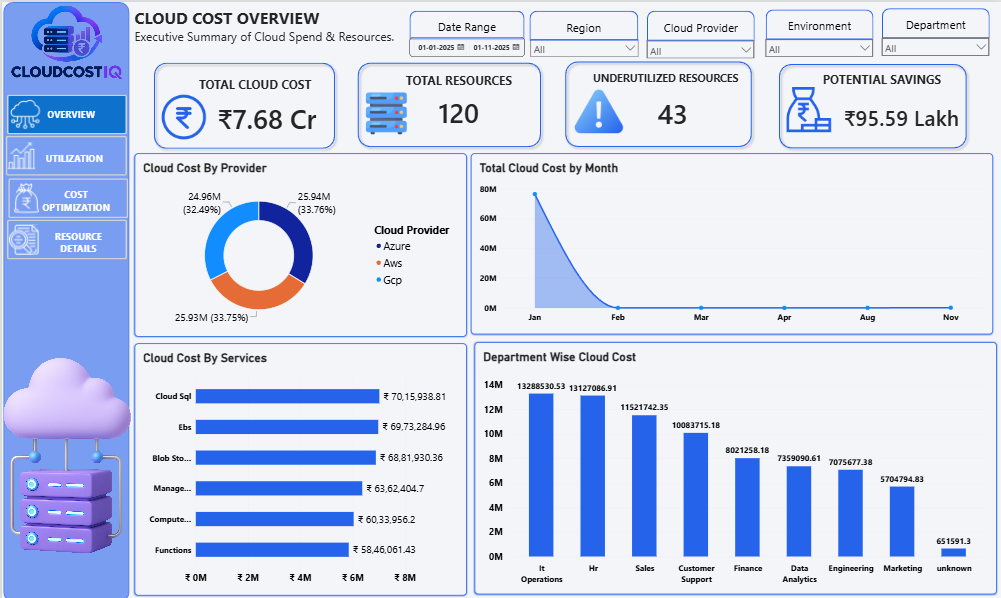

This screenshot's page, from the dashboard's own definition file:
{"tool":"powerbi","page":{"name":"overview","canvas":[2000,1200],"ordinal":0},"visuals":[{"type":"shape","box":[2.5,0,252.5,1200],"z":0},{"type":"image","box":[0,682.5,257.5,447.5],"z":1000},{"type":"image","box":[3.6,7.2,253.4,157.4],"z":2000},{"type":"actionButton","title":"overview on","box":[10,184,240,80],"z":3000},{"type":"actionButton","title":"utilization off","box":[7.5,267.5,242.5,80],"z":6000},{"type":"actionButton","title":"cost off","box":[12.5,352.5,240,80],"z":8000},{"type":"actionButton","title":"resource off","box":[10,435,240,80],"z":10000},{"type":"textbox","box":[264.4,8.9,528.9,95.6],"z":11000},{"type":"donutChart","title":"Cloud Cost By Provider","fields":{"Category":["Cloud_billing_data.Cloud_Provider"],"Y":["formulas.Total Cloud Cost"]},"box":[265,302.5,665,367.5],"z":12000},{"type":"shape","box":[295,112.5,380,190],"z":13000},{"type":"textbox","box":[388.3,147,238,52],"z":14000},{"type":"cardVisual","fields":{"Data":["cards.Total Cloud Cost Cr"]},"box":[414,189.7,240,84.4],"z":15000},{"type":"image","box":[312.3,185,102,90],"z":16000},{"type":"shape","box":[702.5,112.9,384.4,186.7],"z":17000},{"type":"textbox","box":[794.4,139.6,238,52],"z":18000},{"type":"cardVisual","fields":{"Data":["formulas.Total Resources"]},"box":[807.3,177.3,212,86],"z":19000},{"type":"image","box":[718.4,177.6,102,90],"z":20000},{"type":"shape","box":[1116.4,111,391.1,188.9],"z":21000},{"type":"textbox","box":[1148,138.1,360,52],"z":22000},{"type":"cardVisual","fields":{"Data":["formulas.Underutilized Resources"]},"box":[1234.2,179.9,212,86],"z":23000},{"type":"image","box":[1133.2,168.7,122.2,102.2],"z":24000},{"type":"shape","box":[1546.1,113.9,393.3,186.7],"z":25000},{"type":"textbox","box":[1579.2,138.6,360,52],"z":26000},{"type":"cardVisual","fields":{"Data":["cards.Potential Savings Lakh"]},"box":[1668.4,187.2,271.1,86.7],"z":27000},{"type":"image","box":[1563.6,169.8,102,90],"z":28000},{"type":"slicer","fields":{"Values":["Cloud_billing_data.Cloud_Provider"]},"box":[1285.8,72.7,224.4,40],"z":29000},{"type":"shape","box":[1290.3,17.1,215.6,60],"z":30000},{"type":"slicer","fields":{"Values":["Cloud_billing_data.Environment"]},"box":[1523.4,70.2,224.4,40],"z":31000},{"type":"shape","box":[1527.8,14.7,215.6,60],"z":32000},{"type":"slicer","fields":{"Values":["Cloud_billing_data.Department"]},"box":[1754.9,68.4,224.4,40],"z":33000},{"type":"shape","box":[1759.3,12.8,215.6,60],"z":34000},{"type":"slicer","fields":{"Values":["Cloud_billing_data.Region"]},"box":[1052.5,70,225,40],"z":35000},{"type":"shape","box":[1055.9,18.2,217.5,60],"z":36000},{"type":"lineChart","fields":{"Category":["Cloud_billing_data.Month"],"Y":["formulas.Total Cloud Cost"]},"box":[937.5,302.5,1045,362.5],"z":37000},{"type":"barChart","title":"Cloud Cost By Services","fields":{"Category":["Cloud_billing_data.Service_Name"],"Y":["Sum(Cloud_billing_data.Monthly_Cost_INR)"]},"box":[265,682.5,665,505],"z":38000},{"type":"columnChart","title":"Department Wise Cloud Cost","fields":{"Category":["Cloud_billing_data.Department"],"Y":["formulas.Total Cloud Cost"]},"box":[945,680,1045,505],"z":39000},{"type":"slicer","fields":{"Values":["Cloud_billing_data.Billing_Date"]},"box":[815,70,230,40],"z":39001},{"type":"shape","box":[815,17.5,230,57.5],"z":39002}]}

Visuals, with their boxes in screenshot pixels (x1, y1, x2, y2), scaled from the page's 2000x1200 canvas onto the 1001x598 screenshot:
shape: 1:0:128:597
image: 0:340:129:563
image: 2:4:129:82
"overview on" actionButton: 5:92:125:132
"utilization off" actionButton: 4:133:125:173
"cost off" actionButton: 6:176:126:216
"resource off" actionButton: 5:217:125:257
textbox: 132:4:397:52
"Cloud Cost By Provider" donutChart: 133:151:465:334
shape: 148:56:338:151
textbox: 194:73:313:99
cardVisual - cards.Total Cloud Cost Cr: 207:95:327:137
image: 156:92:207:137
shape: 352:56:544:149
textbox: 398:70:517:95
cardVisual - formulas.Total Resources: 404:88:510:131
image: 360:89:411:133
shape: 559:55:755:149
textbox: 575:69:755:95
cardVisual - formulas.Underutilized Resources: 618:90:724:133
image: 567:84:628:135
shape: 774:57:971:150
textbox: 790:69:971:95
cardVisual - cards.Potential Savings Lakh: 835:93:971:136
image: 783:85:834:129
slicer - Cloud_billing_data.Cloud_Provider: 644:36:756:56
shape: 646:9:754:38
slicer - Cloud_billing_data.Environment: 762:35:875:55
shape: 765:7:873:37
slicer - Cloud_billing_data.Department: 878:34:991:54
shape: 881:6:988:36
slicer - Cloud_billing_data.Region: 527:35:639:55
shape: 528:9:637:39
lineChart - Cloud_billing_data.Month x formulas.Total Cloud Cost: 469:151:992:331
"Cloud Cost By Services" barChart: 133:340:465:592
"Department Wise Cloud Cost" columnChart: 473:339:996:591
slicer - Cloud_billing_data.Billing_Date: 408:35:523:55
shape: 408:9:523:37
